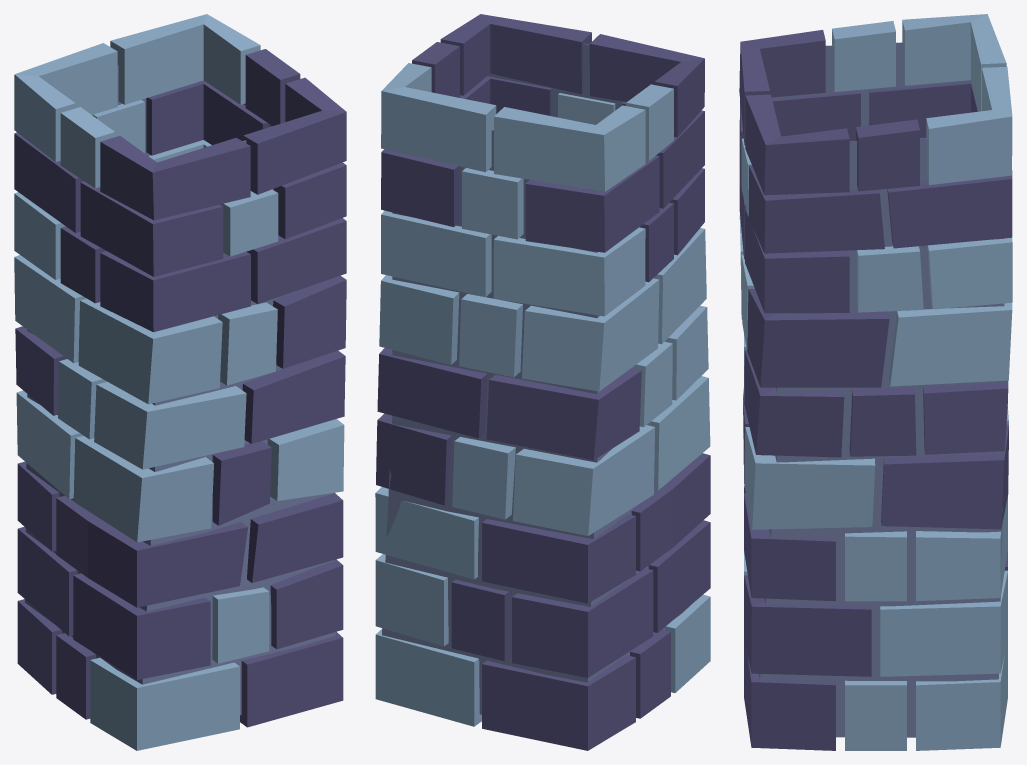
The model's file is BuildingChimney_01.fbx.
3 renders of one model, left to right at view 1: azimuth 30°, elevation 25°; view 2: azimuth 150°, elevation 25°; view 3: azimuth 270°, elevation 25°, orthographic. The views are drawn at different scales.
Visible parts, largest first — view 1: Chimney 01; view 2: Chimney 01; view 3: Chimney 01.
Boxes of the visible parts, <box> form: Chimney 01: <box>14,14,346,750</box>; Chimney 01: <box>375,14,710,750</box>; Chimney 01: <box>739,14,1012,750</box>.
Bounding box in the file's own units: 128 × 323 × 128.
